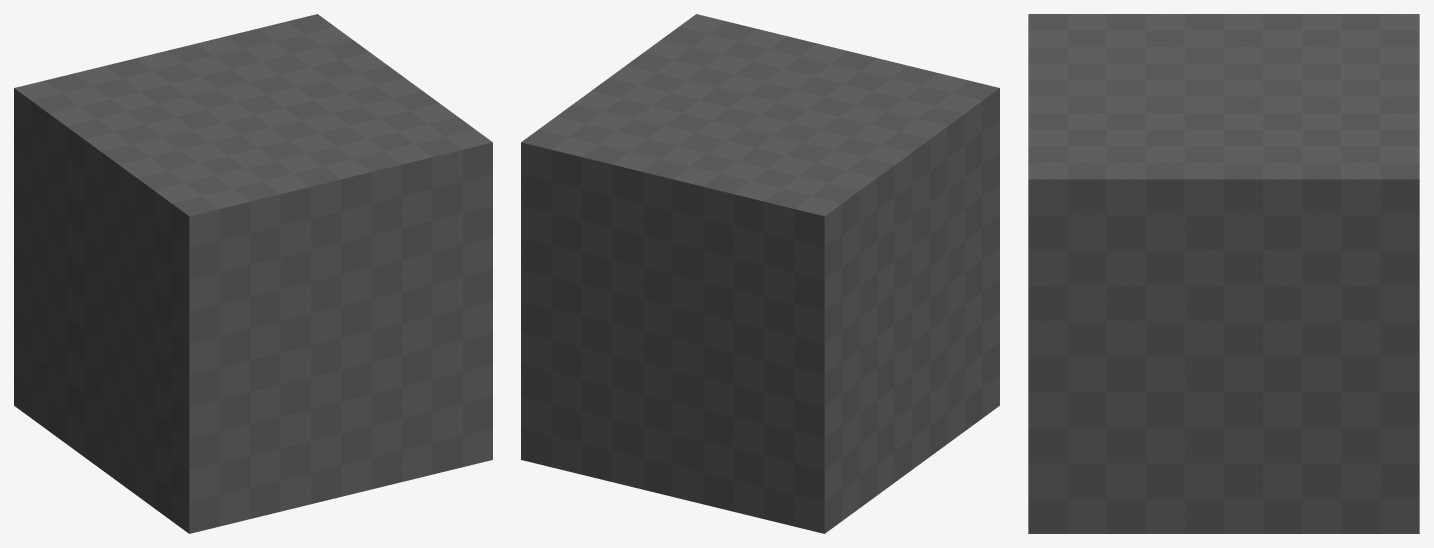
File: rewind.glb
The picture shows the model from 3 angles, left to right: view 1: azimuth 30°, elevation 25°; view 2: azimuth 150°, elevation 25°; view 3: azimuth 270°, elevation 25°; orthographic projection. The views are drawn at different scales.
Parts seen in each view (by area): view 1: Cube; view 2: Cube; view 3: Cube.
Boxes of the visible parts, <box> form: Cube: <box>14,14,492,533</box>; Cube: <box>521,14,999,533</box>; Cube: <box>1028,14,1419,533</box>.
Bounding box in the file's own units: 1 × 1 × 1.
1 material, 1 textured.
